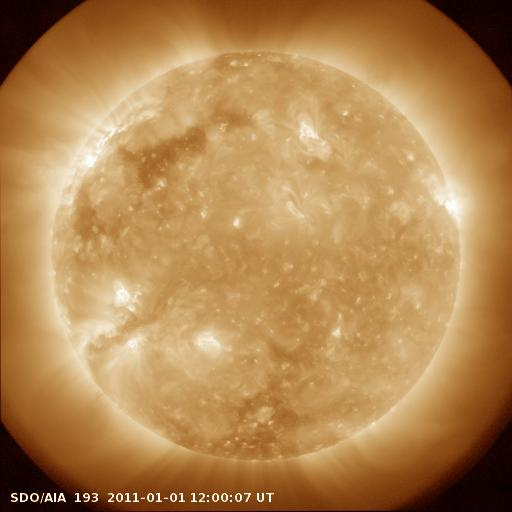coronal_hole: (208, 348, 308, 467), (110, 125, 212, 187)
